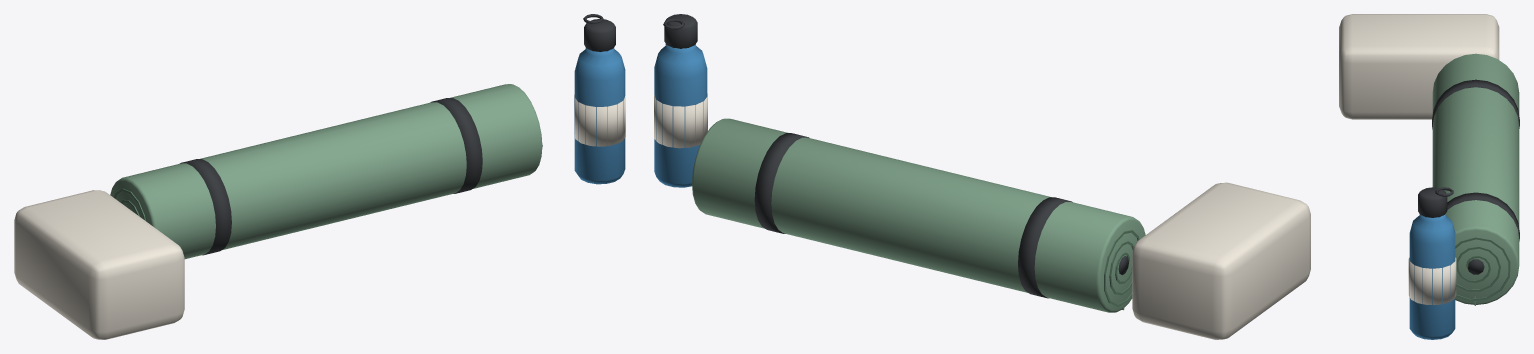
The model's file is yogaMat.glb.
3 renders of one model, left to right at view 1: azimuth 30°, elevation 25°; view 2: azimuth 150°, elevation 25°; view 3: azimuth 270°, elevation 25°, orthographic. The views are drawn at different scales.
Visible parts, largest first — view 1: roll, body; view 2: roll, body; view 3: body, roll.
Boxes of the visible parts, bbox=[...] form: roll: bbox=[110, 84, 542, 259]; body: bbox=[14, 14, 625, 339]; roll: bbox=[692, 118, 1145, 312]; body: bbox=[654, 14, 1310, 339]; body: bbox=[1339, 14, 1499, 339]; roll: bbox=[1432, 53, 1519, 304].
Bounding box in the file's own units: 0.92 × 0.2338 × 0.2708.
